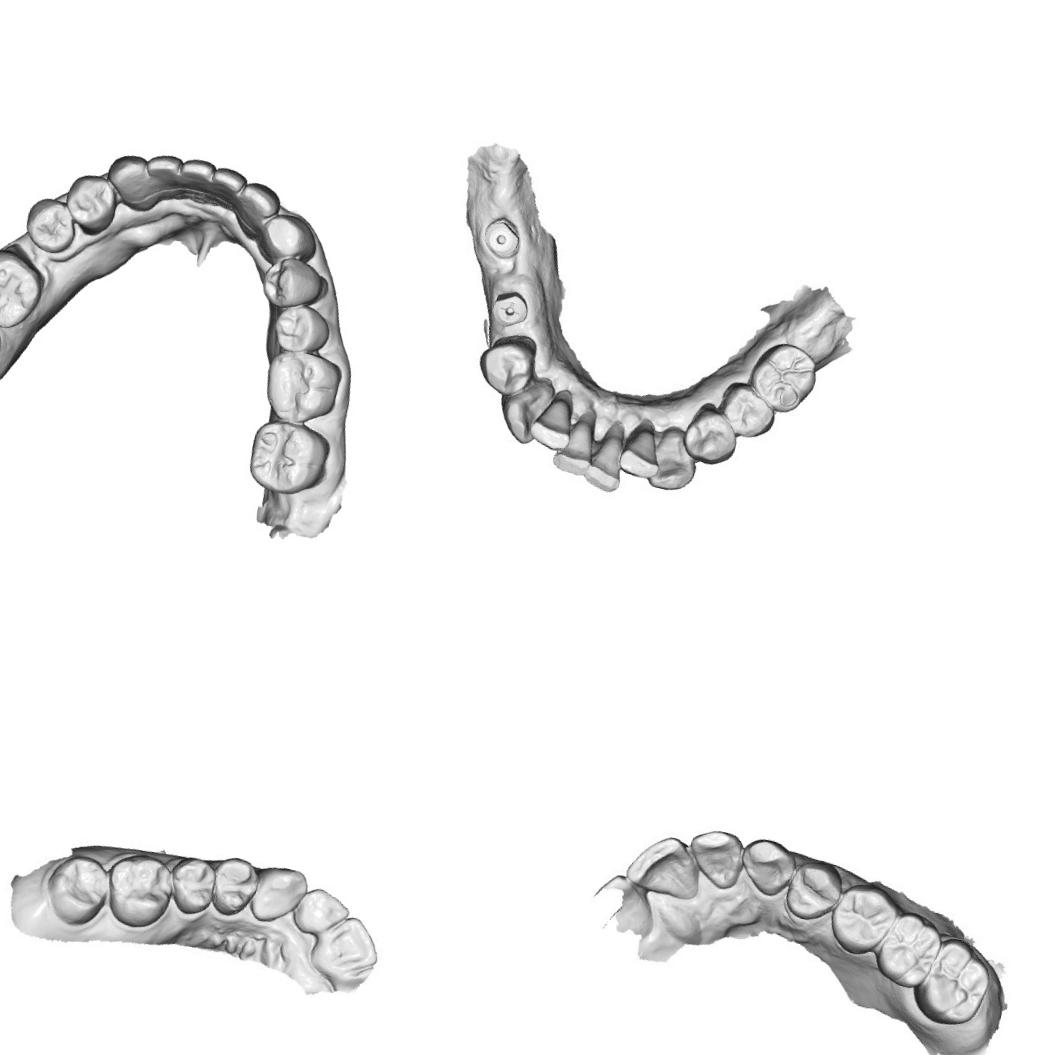canine: (249, 206, 324, 274), (248, 857, 310, 930), (683, 822, 746, 890), (499, 378, 552, 443), (99, 150, 152, 214), (646, 429, 700, 491)
implant: (476, 212, 532, 265)
implant_plus: (485, 282, 535, 332)
incisor: (625, 827, 708, 906), (303, 906, 386, 983), (549, 407, 606, 482), (526, 386, 583, 456), (584, 418, 634, 496), (230, 178, 284, 242), (291, 886, 350, 942), (616, 420, 666, 482), (136, 148, 184, 204), (205, 164, 250, 213), (174, 154, 218, 204)
molar: (255, 344, 347, 434), (242, 415, 334, 503), (920, 936, 997, 1026), (102, 850, 174, 932), (749, 336, 823, 414), (42, 851, 115, 929), (875, 910, 947, 988), (832, 878, 900, 954), (0, 242, 52, 337)
premolar: (732, 830, 805, 904), (256, 250, 331, 316), (676, 399, 745, 470), (57, 168, 124, 240), (782, 859, 850, 928), (18, 193, 84, 258), (268, 298, 336, 361), (716, 379, 780, 444), (474, 334, 536, 394), (208, 854, 261, 920), (166, 855, 220, 919)
